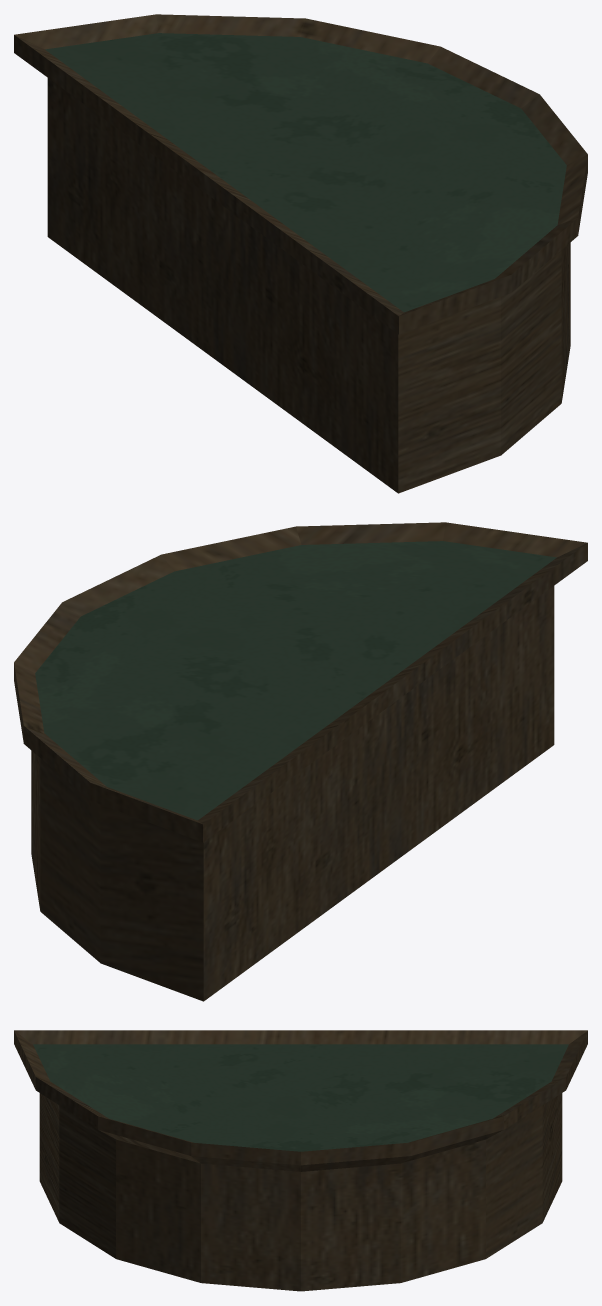
The model's file is TableBlackack.glb.
3 renders of one model, top to bottom at view 1: azimuth 30°, elevation 25°; view 2: azimuth 150°, elevation 25°; view 3: azimuth 270°, elevation 25°, orthographic. The views are drawn at different scales.
Parts seen in each view (by area): view 1: Cylinder; view 2: Cylinder; view 3: Cylinder.
Part boxes in pixels (x1,y1,x2,y2): Cylinder: (14, 14, 587, 493); Cylinder: (14, 522, 587, 1001); Cylinder: (14, 1030, 587, 1291).
Bounding box in the file's own units: 1.1 × 0.6097 × 2.2.
2 materials, 2 textured.
